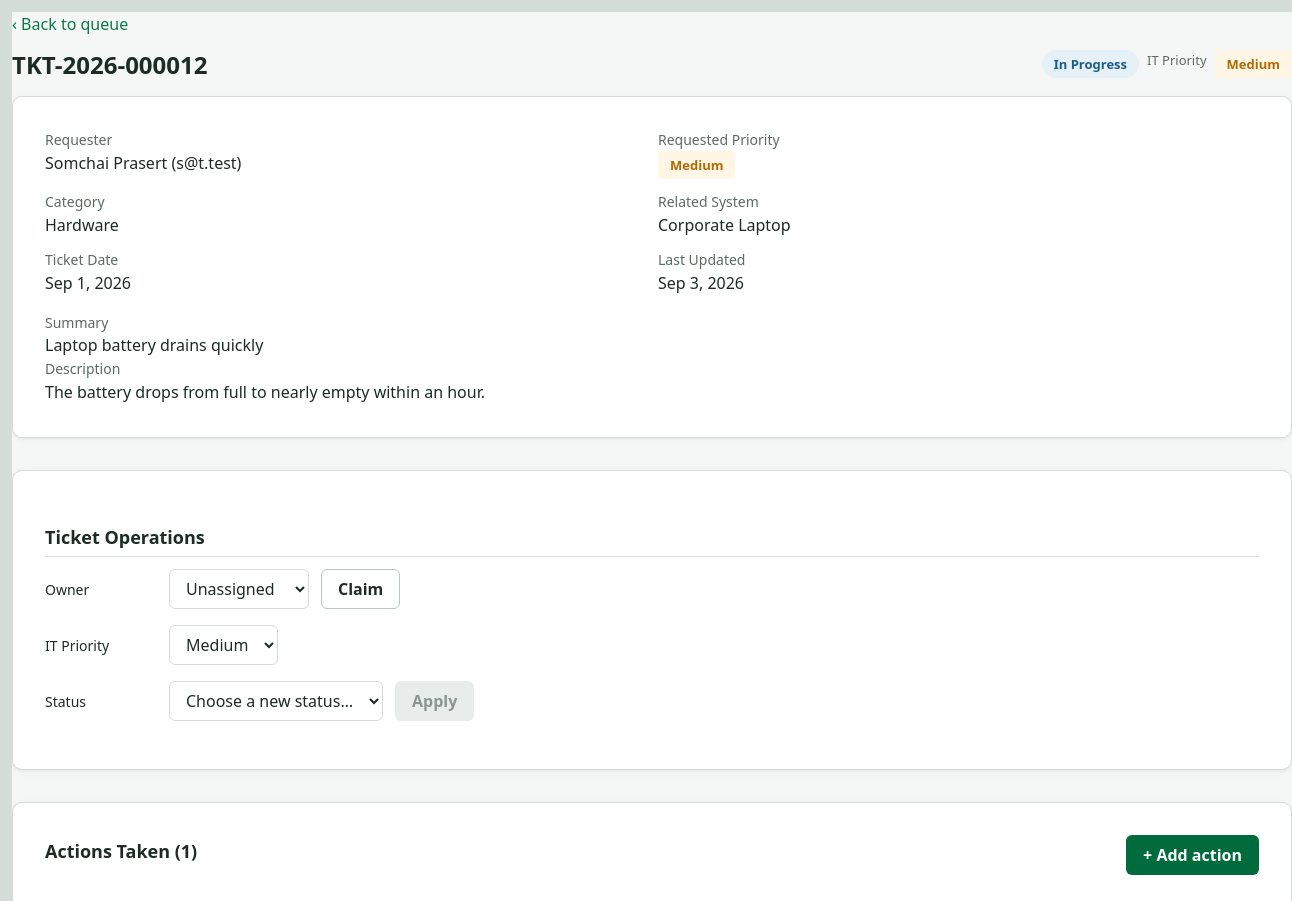
UI-22: a gate refusal from the server lists the reasons and refreshes the Ticket
Check: the element "Ticket Operations" is shown, box [12, 470, 1291, 770]
Select "Resolved" in the dropdown labelled "Status" at (276, 701), box [169, 681, 383, 721]
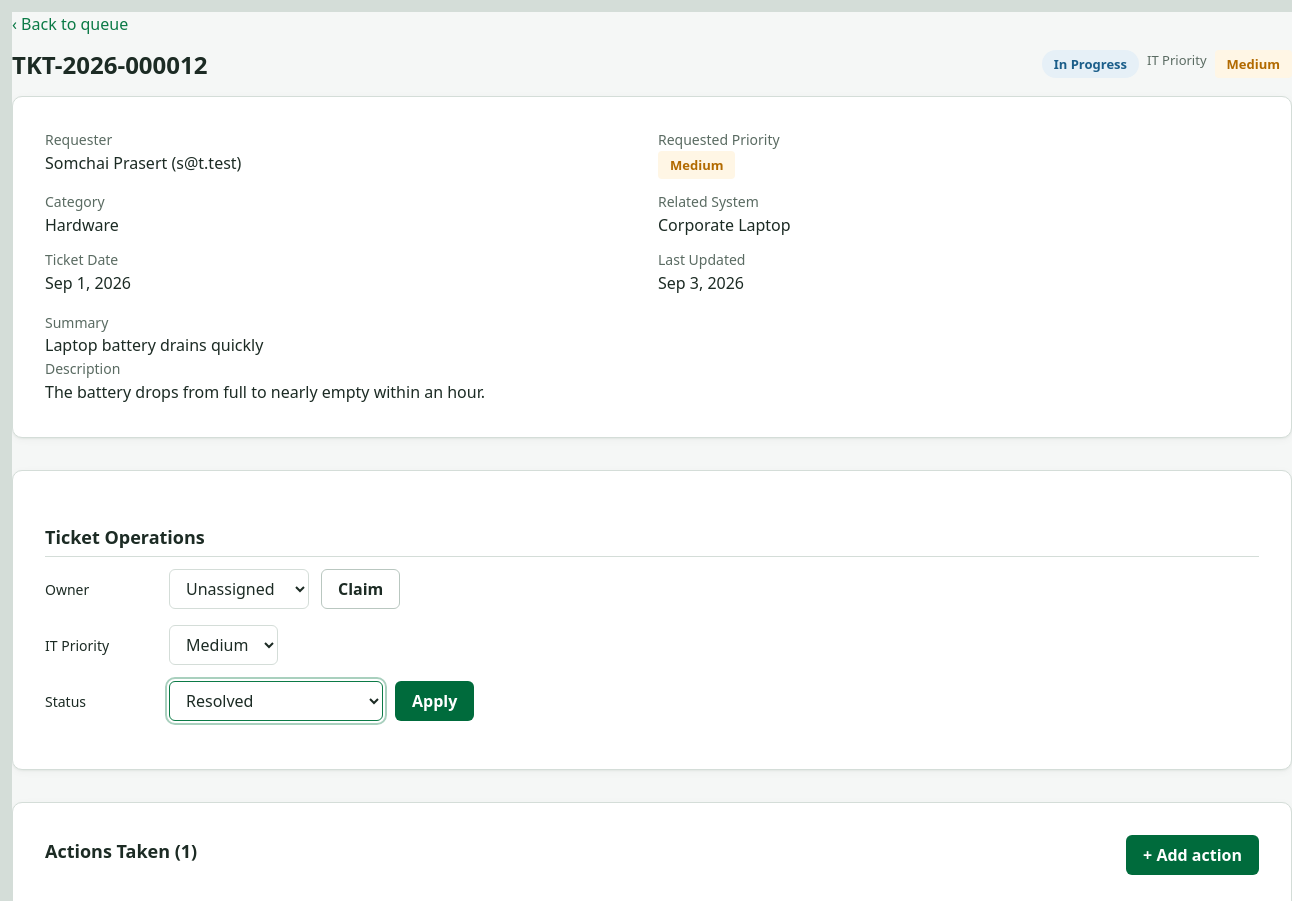
Click the button "Apply".
click(435, 701)  # box [395, 681, 474, 721]
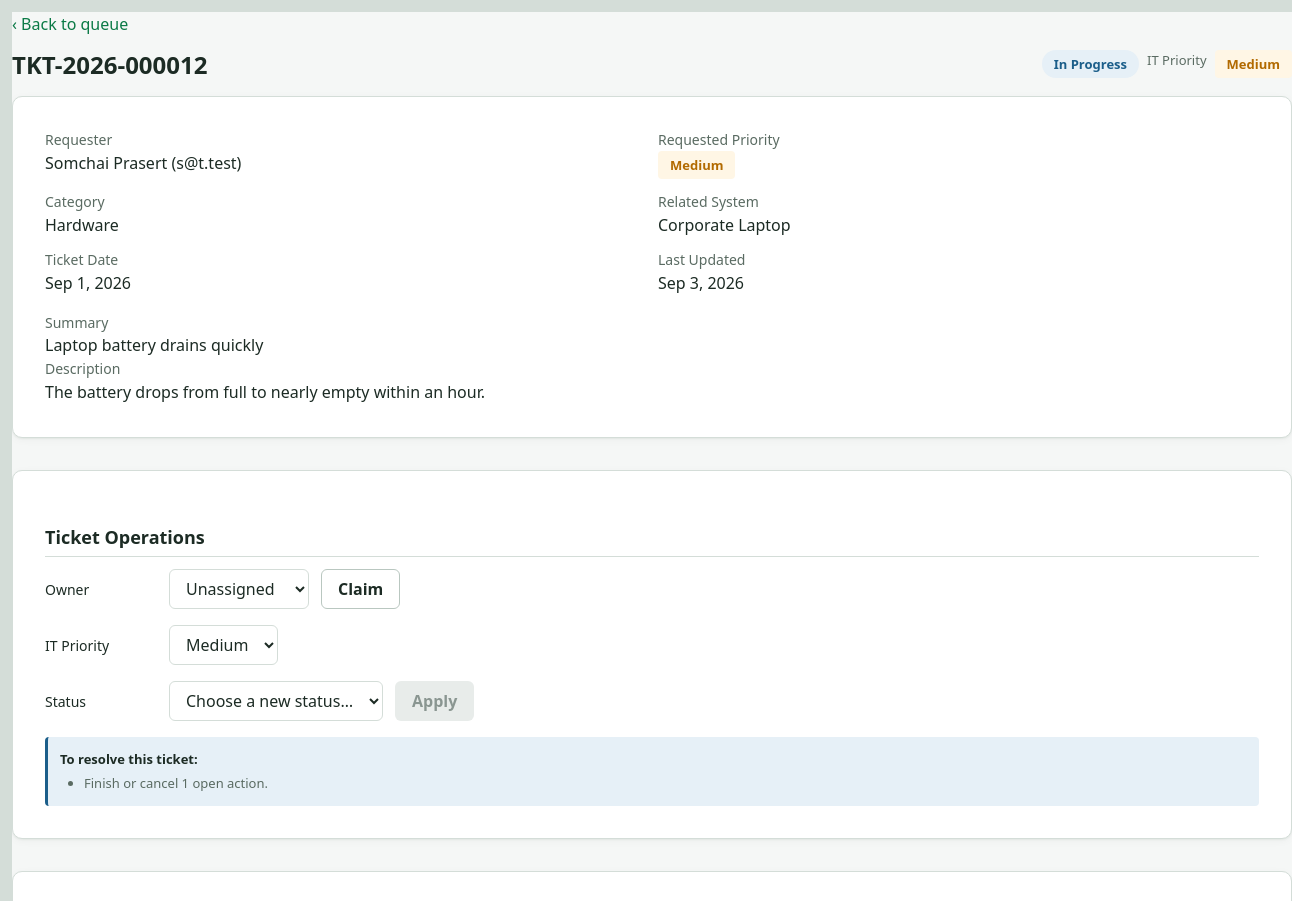
Check: the option "Resolved" is not shown
Check: the text "To resolve this ticket:" shows "Finish or cancel 1 open action.", box [84, 774, 268, 792]
